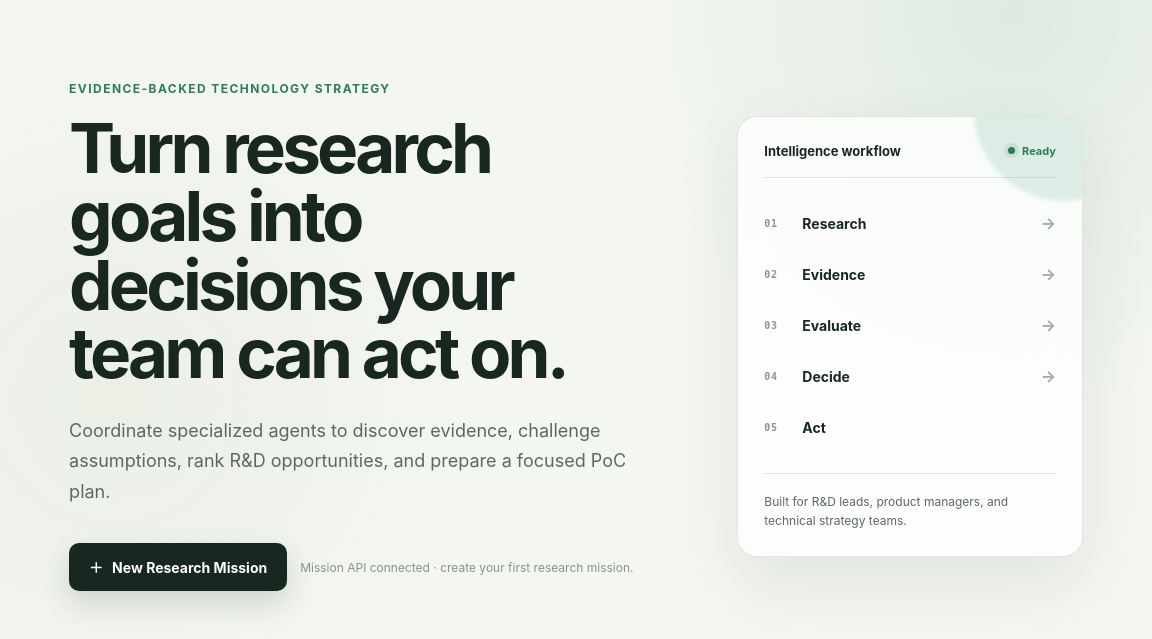
Test: mission workspace › keeps a newly created mission when the initial request finishes later
This screenshot has width=1152, height=639.
Click the button "＋ New Research Mission": (178, 568) [69, 544, 287, 592]
(page scrolled)
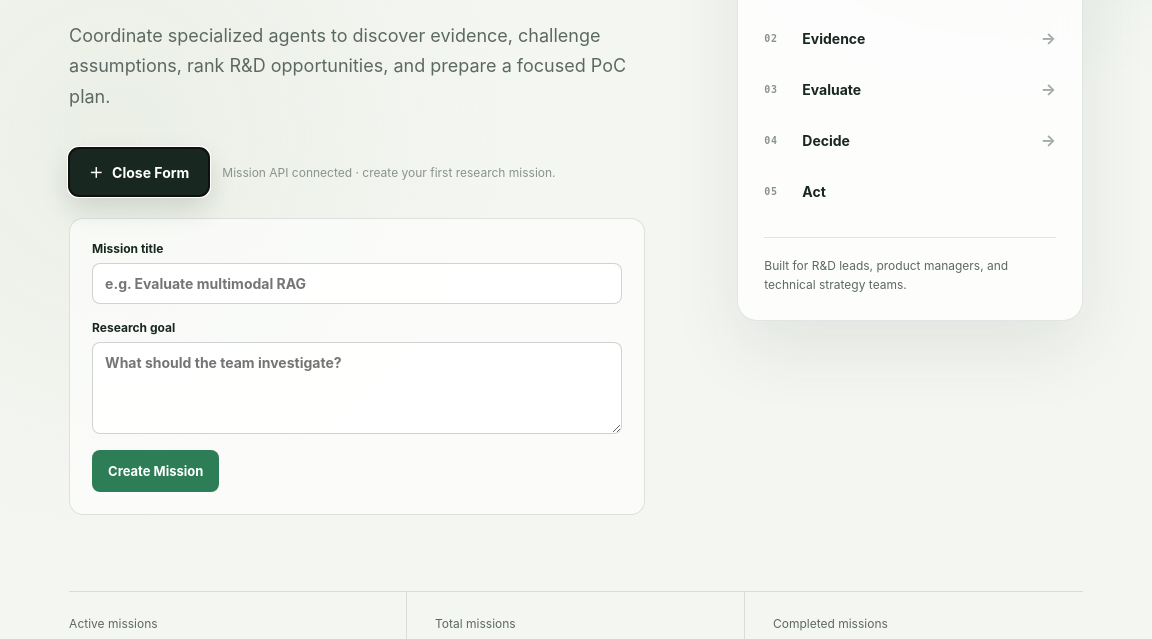
In the field labelled "Mission title": (357, 284) [92, 264, 622, 304], type "Evaluate multimodal RAG"
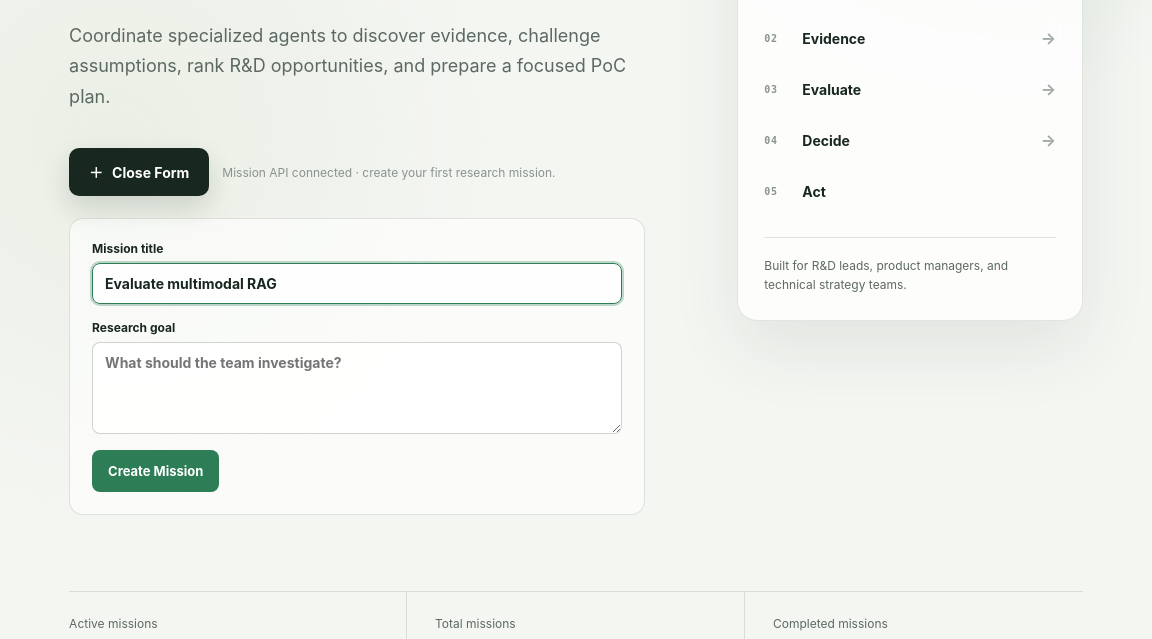
In the text box labelled "Research goal": (357, 388) [92, 342, 622, 434], type "Compare retrieval quality and implementation cost."
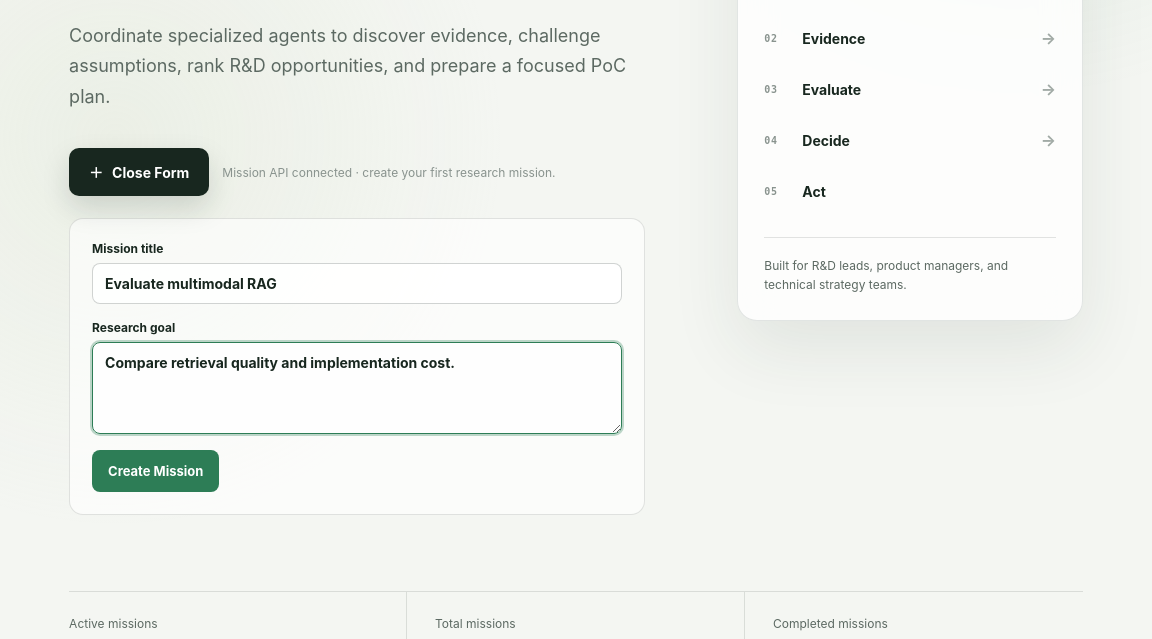
Click the button "Create Mission": (156, 472) [92, 450, 219, 492]
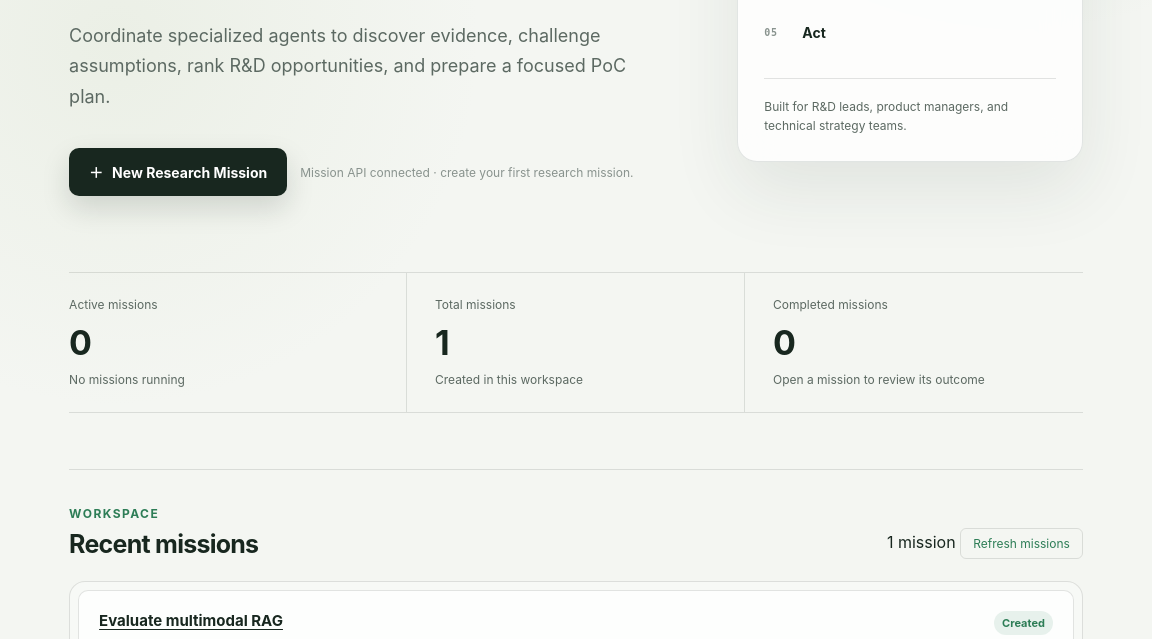
Now the heading "Evaluate multimodal RAG" is shown, box [99, 612, 283, 630]
